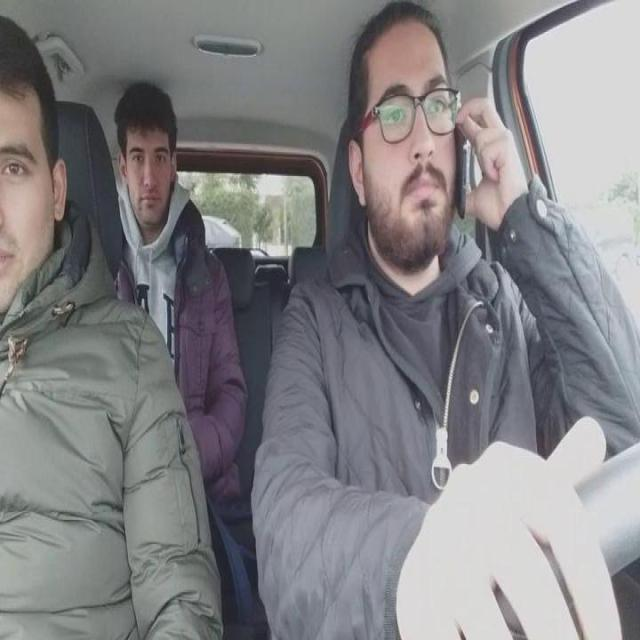phone: (450, 106, 472, 218)
